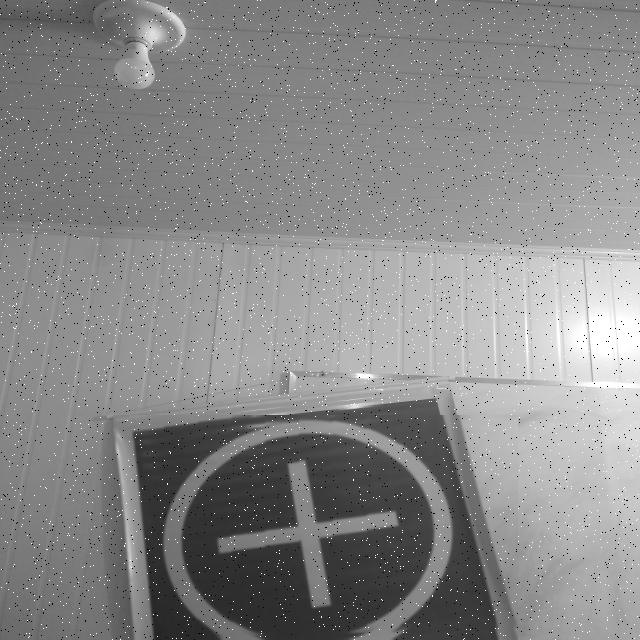circulo-com-sinal-positivo: (113, 415, 518, 640)
